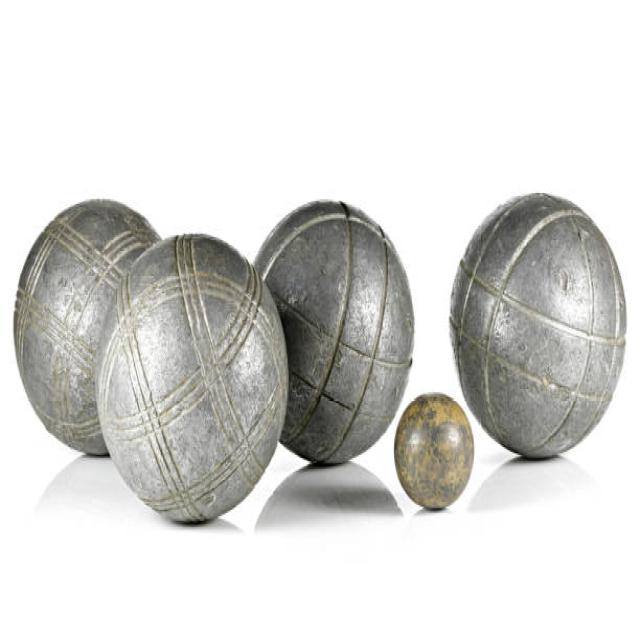hatball: (387, 390, 480, 516)
petanque: (93, 226, 293, 543), (446, 188, 630, 463), (250, 206, 418, 473), (9, 194, 169, 461)
